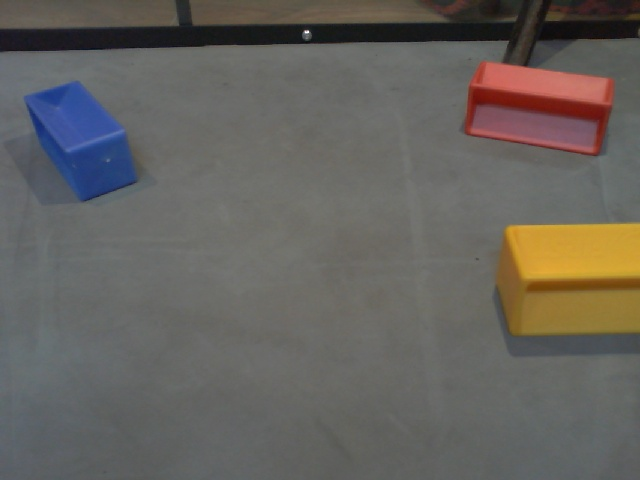BlueSample: (22, 78, 139, 203)
RedSample: (459, 57, 615, 160)
YellowSample: (494, 219, 640, 343)
